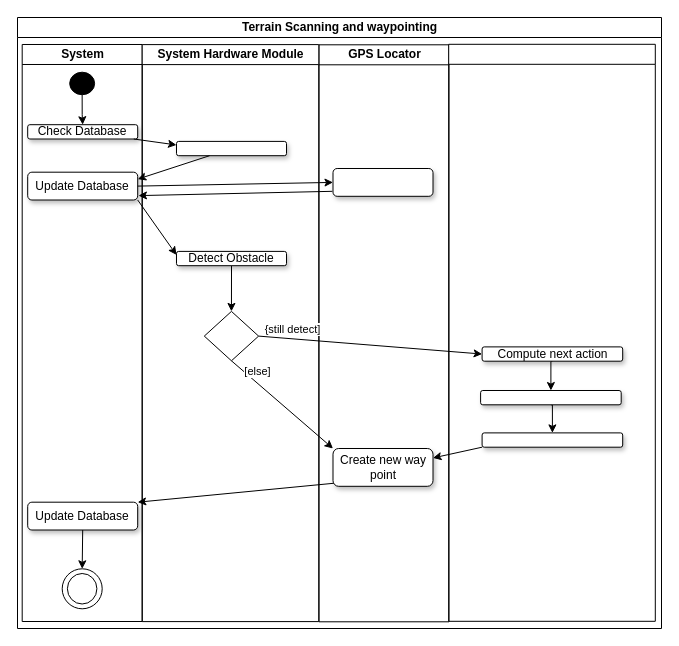
The diagram is 679 pixels wide and 646 high, and some of its shapes have lost their labels. Here are the shapes that lost their labels. From the top down, the centre of each, then its label:
At pixel 232 149: "Scan Terrain".
At pixel 383 183: "Create Terrain Map".
At pixel 551 332: "Computational Operator(Object)".
At pixel 551 399: "Plan efficiently".
At pixel 553 441: "Avoid Obstacle".
